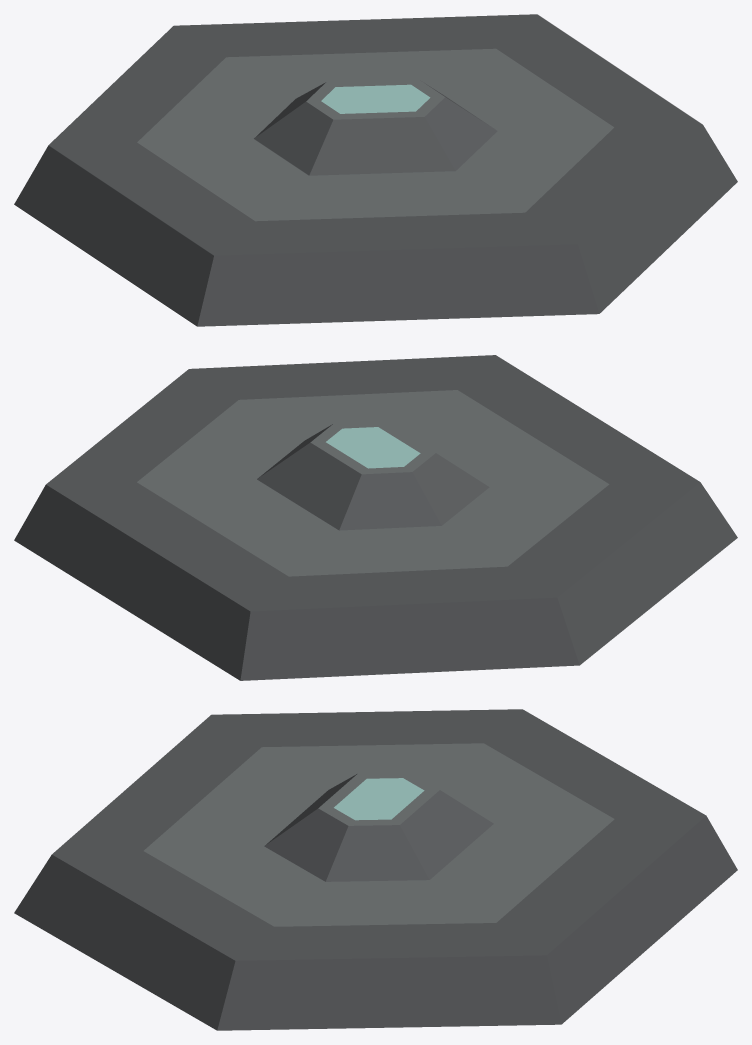
Rendered from Lopin_seed.fbx.
3 renders of one model, top to bottom at view 1: azimuth 30°, elevation 25°; view 2: azimuth 150°, elevation 25°; view 3: azimuth 270°, elevation 25°, orthographic.
Parts seen in each view (by area): view 1: Sol_plante_graine; view 2: Sol_plante_graine; view 3: Sol_plante_graine.
Part boxes in pixels (<box>): Sol_plante_graine: <box>14,14,737,326</box>; Sol_plante_graine: <box>14,355,737,680</box>; Sol_plante_graine: <box>14,709,737,1030</box>.
Bounding box in the file's own units: 73.94 × 11.53 × 81.29.
